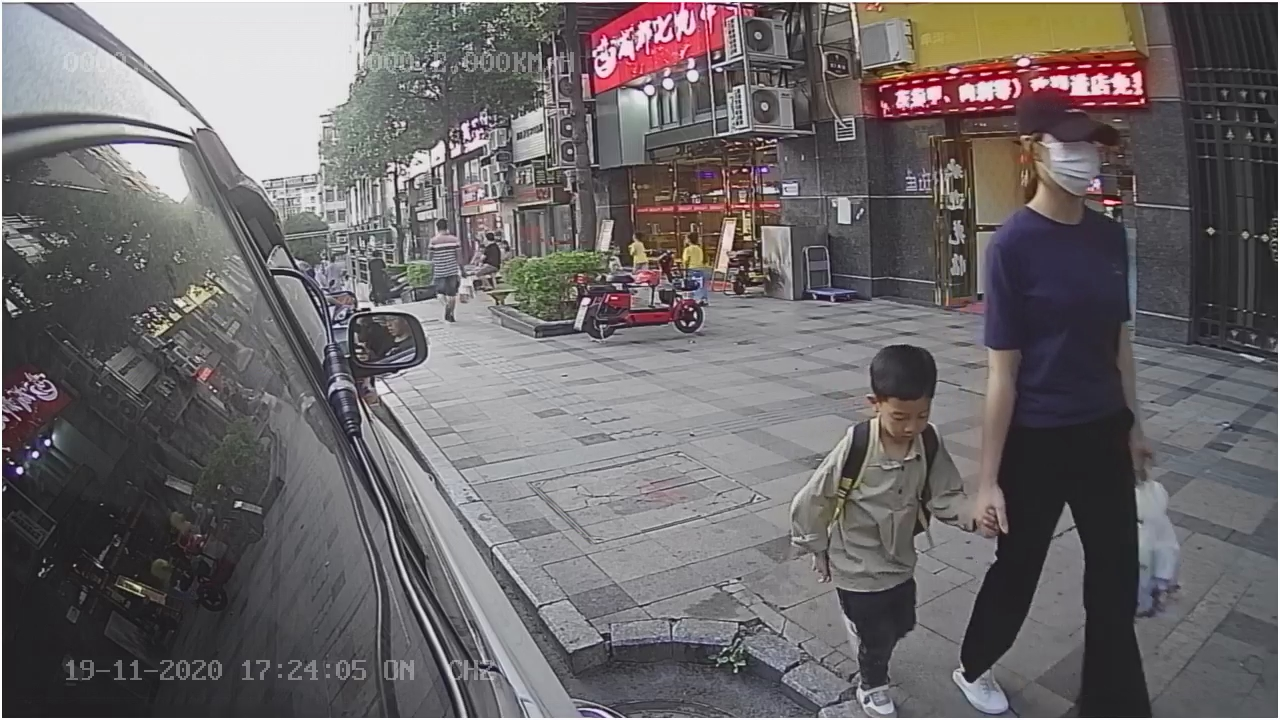person: (957, 99, 1161, 717), (781, 339, 983, 720)
